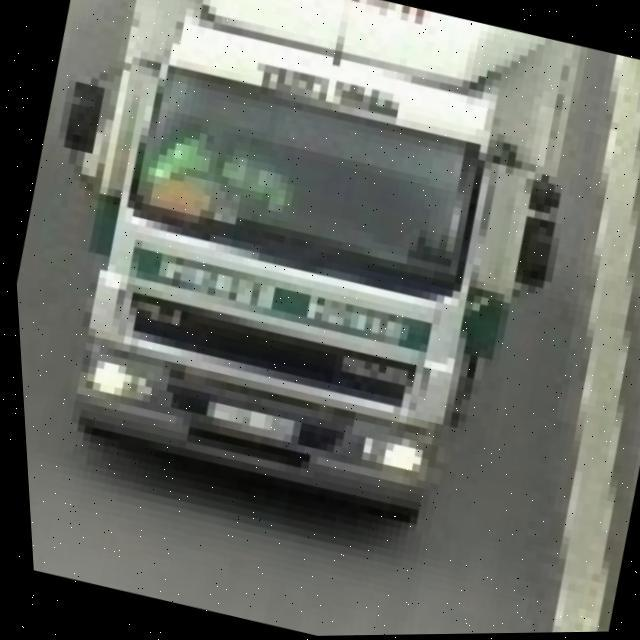truck: (0, 0, 604, 576)
